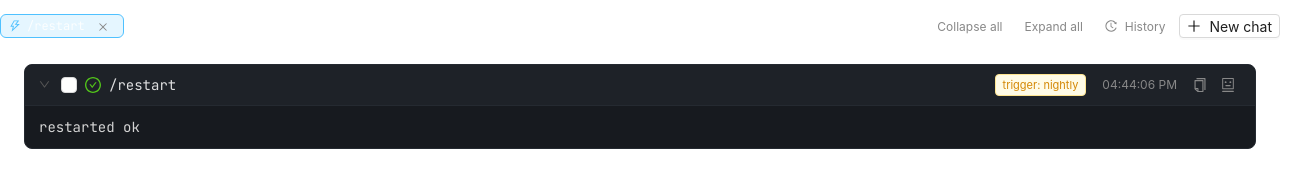
Test: Console sessions › closing a session removes its blocks and tells the backend
The width and height of the screenshot is (1292, 172).
Expected: the text "restarted ok" is shown, [39,118,140,136]
Click the button named "Close session" at (103,26), box [91,18,115,34]
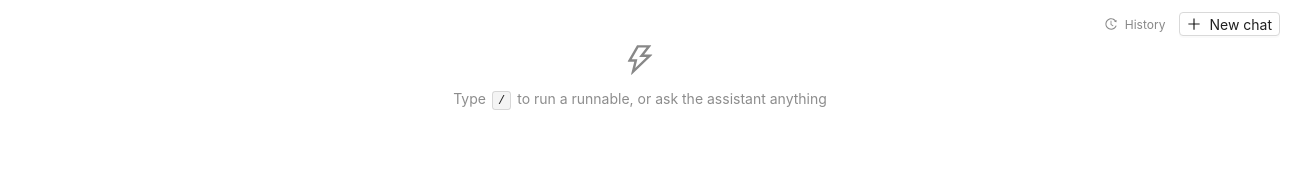
Expected: no tabs with test id "session-chip" are shown
Expected: the text "restarted ok" is gone
